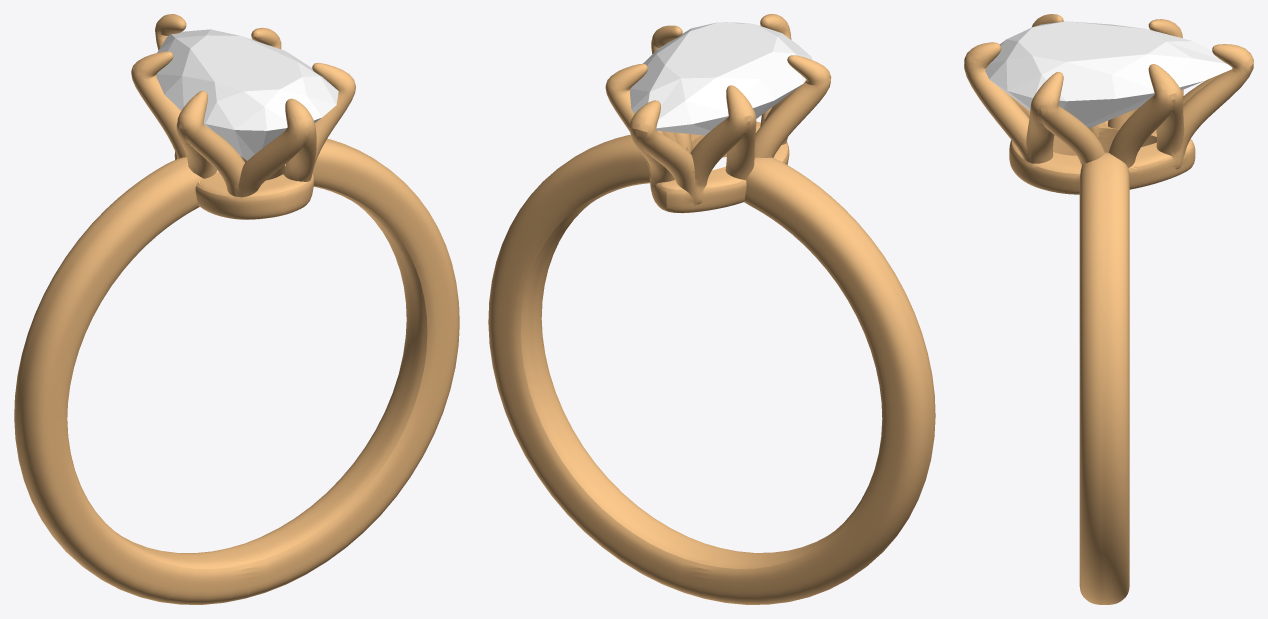
The picture shows the model from 3 angles, left to right: view 1: azimuth 30°, elevation 25°; view 2: azimuth 150°, elevation 25°; view 3: azimuth 270°, elevation 25°; orthographic projection.
Parts seen in each view (by area): view 1: object 2, PART0001; view 2: object 2, PART0001; view 3: object 2, PART0001.
Part boxes in pixels (x1=…): object 2: x1=14, y1=14, x2=459, y2=604; PART0001: x1=156, y1=29, x2=338, y2=160; object 2: x1=488, y1=14, x2=935, y2=604; PART0001: x1=629, y1=22, x2=811, y2=135; object 2: x1=964, y1=14, x2=1253, y2=604; PART0001: x1=985, y1=21, x2=1232, y2=128.
Size of the model in its own units: 2.42 by 2.86 by 1.39.
